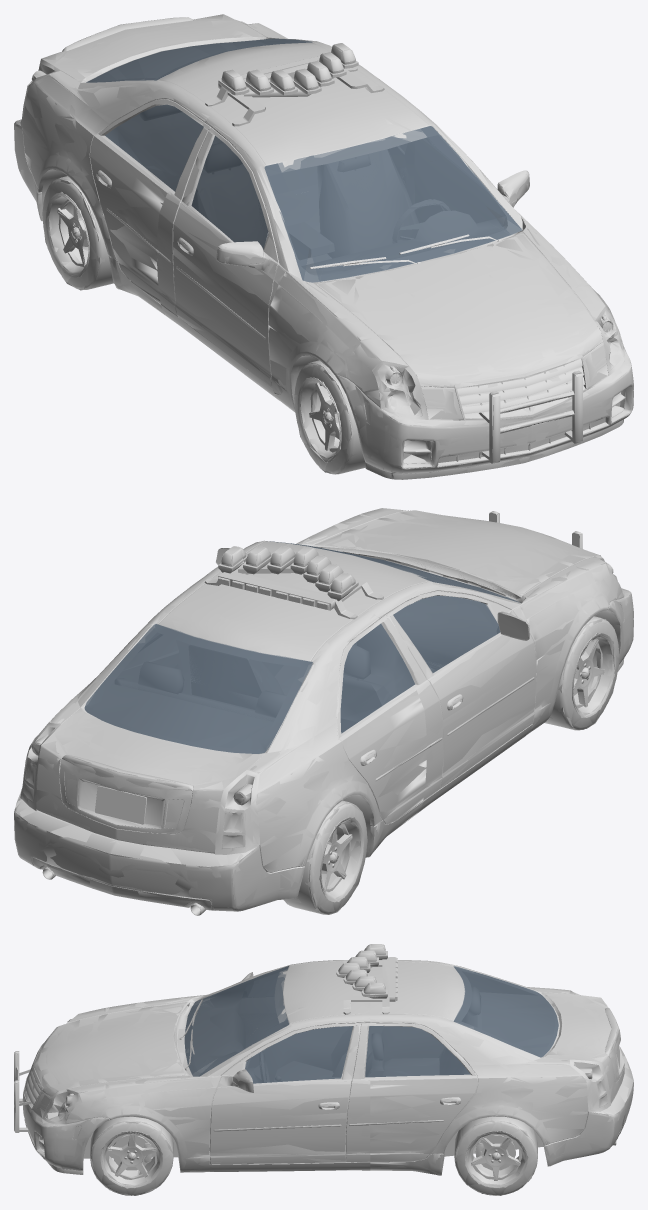
Rendered from police.fbx.
3 views of the same model, one above another, from view 1: azimuth 30°, elevation 25°; view 2: azimuth 150°, elevation 25°; view 3: azimuth 270°, elevation 25° (orthographic). The views are drawn at different scales.
Parts seen in each view (by area): view 1: Body, LOD1_Body, LOD2_Body, Door_FR, LOD1_Door_FR, LOD2_Door_FR, Wheel_FR, Wheel_RR, Door_FL, LOD1_Door_FL, LOD1_Wheel_FR, LOD1_Wheel_RR (+3 smaller); view 2: Body, LOD1_Body, LOD2_Body, Door_FR, LOD1_Door_FR, LOD2_Door_FR, Wheel_RR, Wheel_FR, LOD1_Wheel_FR, LOD1_Wheel_RR, LOD2_Wheel_RR, LOD2_Wheel_FR; view 3: Body, LOD1_Body, LOD2_Body, Door_FL, LOD1_Door_FL, LOD2_Door_FL, Wheel_FL, Wheel_RL, LOD1_Wheel_FL, LOD1_Wheel_RL, LOD2_Wheel_RL, LOD2_Wheel_FL (+2 smaller).
Part boxes in pixels (left/top/right/bottom): Body: left=14, top=14, right=633, bottom=479; LOD1_Body: left=14, top=14, right=633, bottom=474; LOD2_Body: left=14, top=17, right=633, bottom=479; Door_FR: left=156, top=121, right=331, bottom=398; LOD1_Door_FR: left=156, top=120, right=331, bottom=393; LOD2_Door_FR: left=157, top=138, right=309, bottom=399; Wheel_FR: left=294, top=360, right=365, bottom=474; Wheel_RR: left=43, top=176, right=113, bottom=289; Door_FL: left=420, top=124, right=529, bottom=234; LOD1_Door_FL: left=419, top=110, right=528, bottom=233; LOD1_Wheel_FR: left=294, top=362, right=365, bottom=474; LOD1_Wheel_RR: left=42, top=178, right=112, bottom=290; Body: left=14, top=509, right=633, bottom=915; LOD1_Body: left=14, top=508, right=633, bottom=915; LOD2_Body: left=15, top=508, right=630, bottom=911; Door_FR: left=378, top=577, right=536, bottom=813; LOD1_Door_FR: left=378, top=577, right=536, bottom=808; LOD2_Door_FR: left=395, top=579, right=536, bottom=809; Wheel_RR: left=284, top=800, right=367, bottom=914; Wheel_FR: left=545, top=616, right=618, bottom=730; LOD1_Wheel_FR: left=544, top=618, right=619, bottom=730; LOD1_Wheel_RR: left=286, top=803, right=367, bottom=914; LOD2_Wheel_RR: left=284, top=802, right=363, bottom=914; LOD2_Wheel_FR: left=563, top=619, right=619, bottom=729; Body: left=14, top=944, right=633, bottom=1175; LOD1_Body: left=14, top=944, right=633, bottom=1174; LOD2_Body: left=14, top=964, right=631, bottom=1174; Door_FL: left=193, top=1020, right=370, bottom=1171; LOD1_Door_FL: left=194, top=1020, right=370, bottom=1171; LOD2_Door_FL: left=210, top=1022, right=370, bottom=1164; Wheel_FL: left=90, top=1116, right=173, bottom=1195; Wheel_RL: left=454, top=1116, right=537, bottom=1195; LOD1_Wheel_FL: left=90, top=1119, right=173, bottom=1195; LOD1_Wheel_RL: left=454, top=1117, right=537, bottom=1195; LOD2_Wheel_RL: left=455, top=1118, right=536, bottom=1195; LOD2_Wheel_FL: left=90, top=1121, right=172, bottom=1195.
Size of the model in its own units: 2.07 by 1.61 by 4.9.
